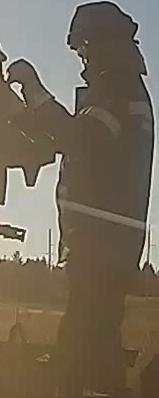gloves: (3, 55, 57, 109)
vest: (54, 78, 156, 270)
